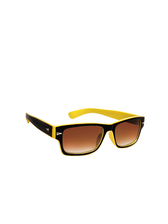glasses: (19, 105, 150, 161)
